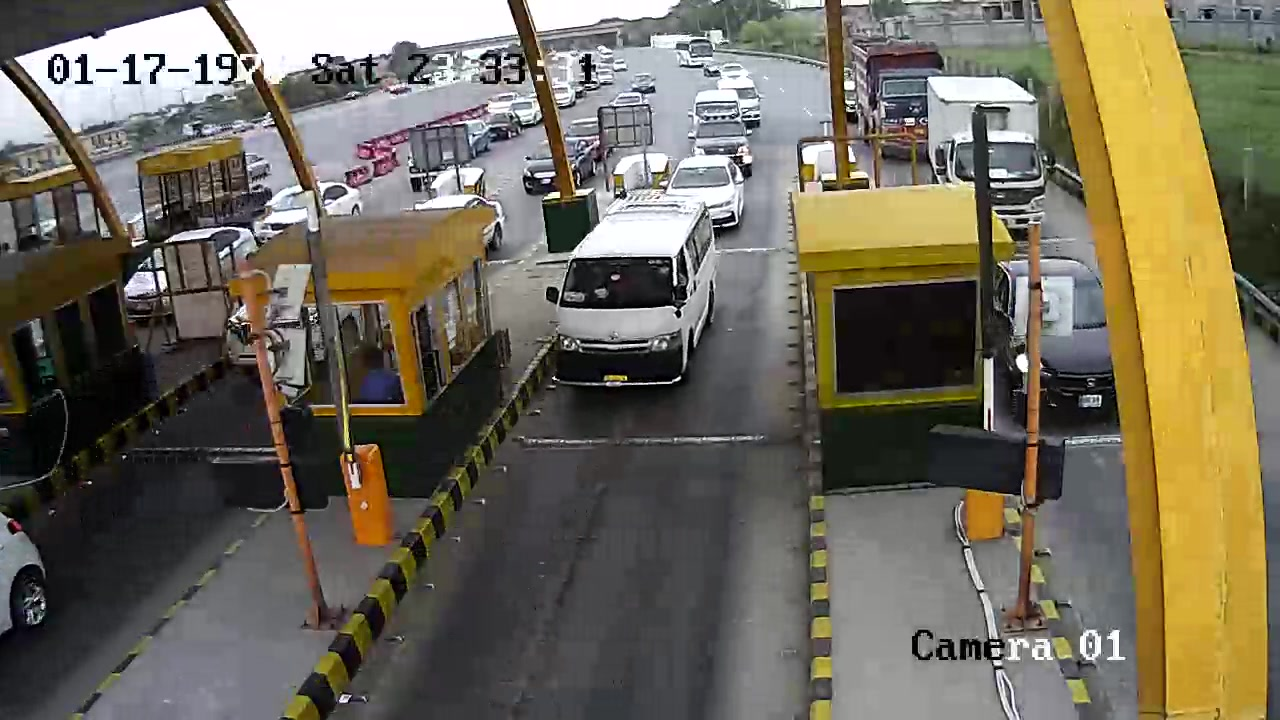F2: (549, 195, 712, 399)
